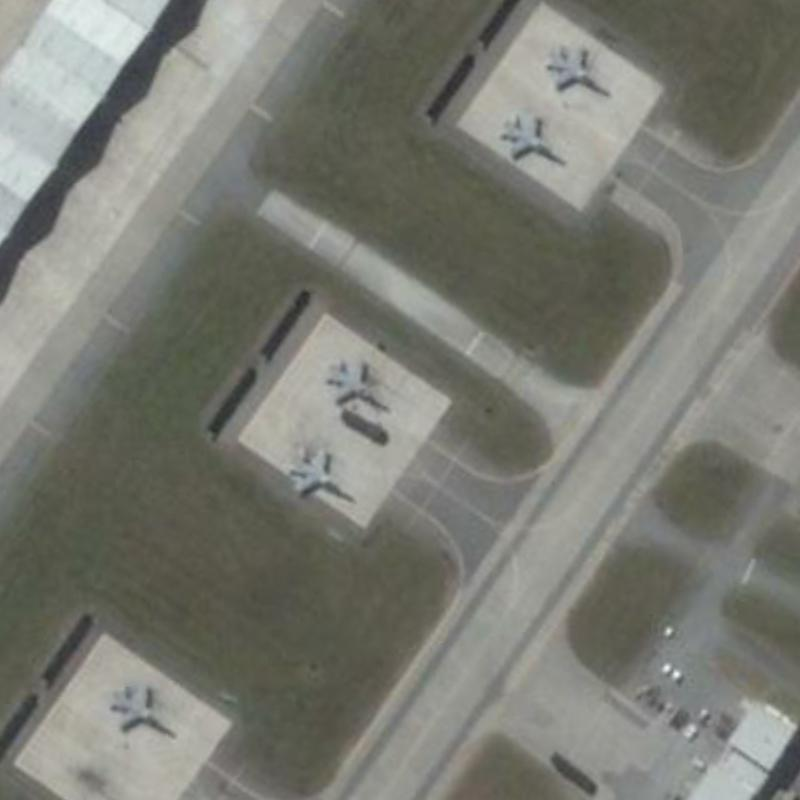A16: (539, 36, 611, 103), (278, 442, 356, 503), (105, 677, 177, 741), (320, 352, 393, 415), (491, 107, 567, 167)
